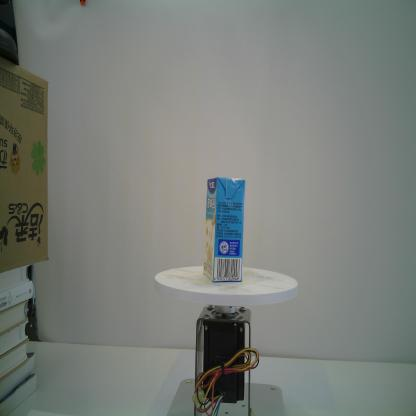Milk: (202, 174, 246, 284)
